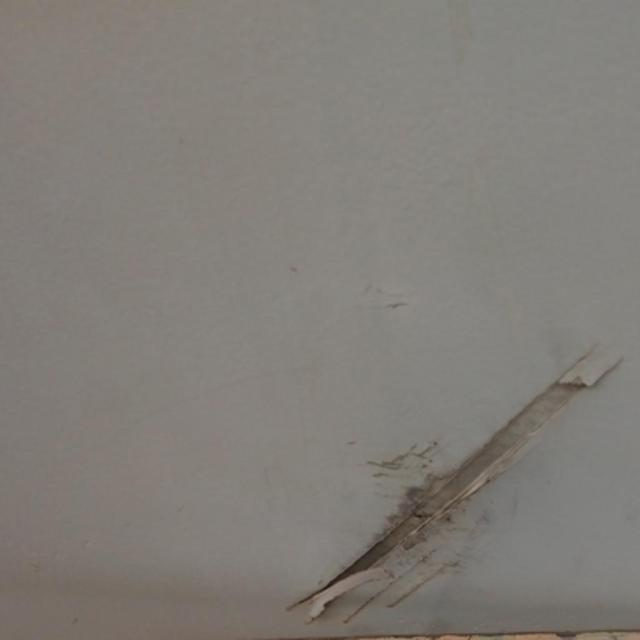crack: (280, 342, 615, 624)
